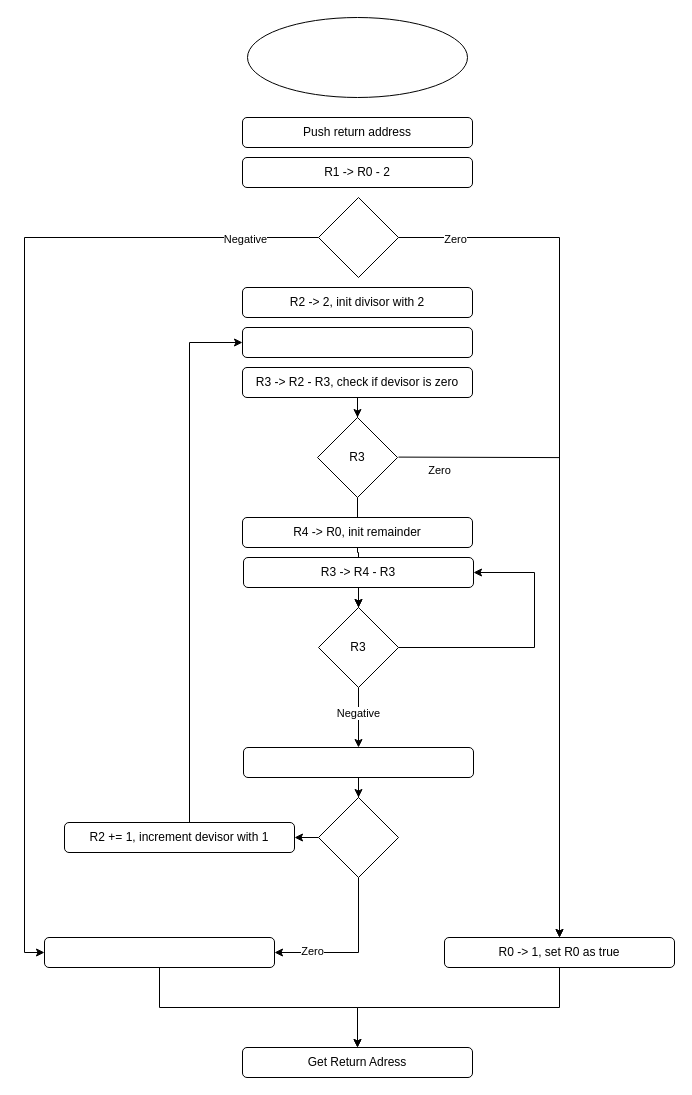
Some shapes in this 692 by 1095 pixel diagram are drawn without their labels. Here are the shapes that lost their labels. From the top down, the box of each, then its label:
(246, 16, 468, 98): IsPrime Called
(318, 196, 398, 278): R1
(242, 326, 472, 358): R3 -> -R1, flip R0
(242, 746, 474, 778): R4 -> R4 - R3
(318, 796, 398, 878): R4
(44, 936, 274, 968): R0 -> 1, set R0 as false
